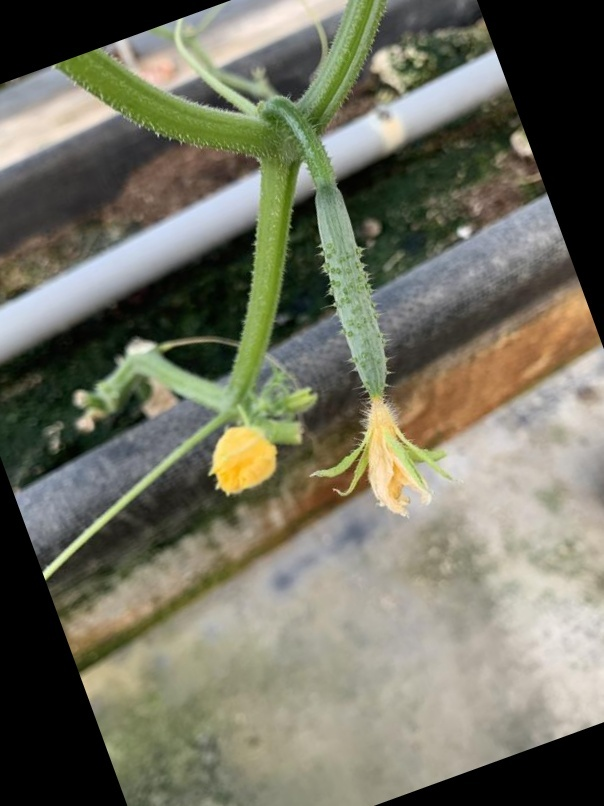bear: (296, 173, 464, 523)
